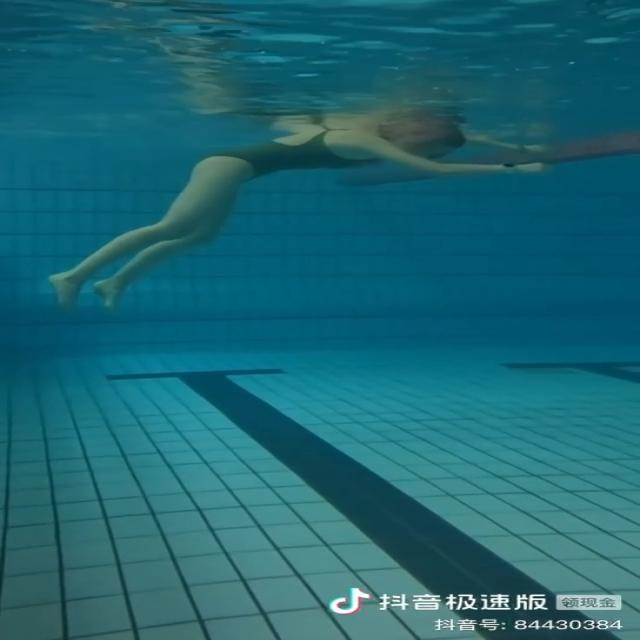Drowning: (50, 118, 548, 316)
